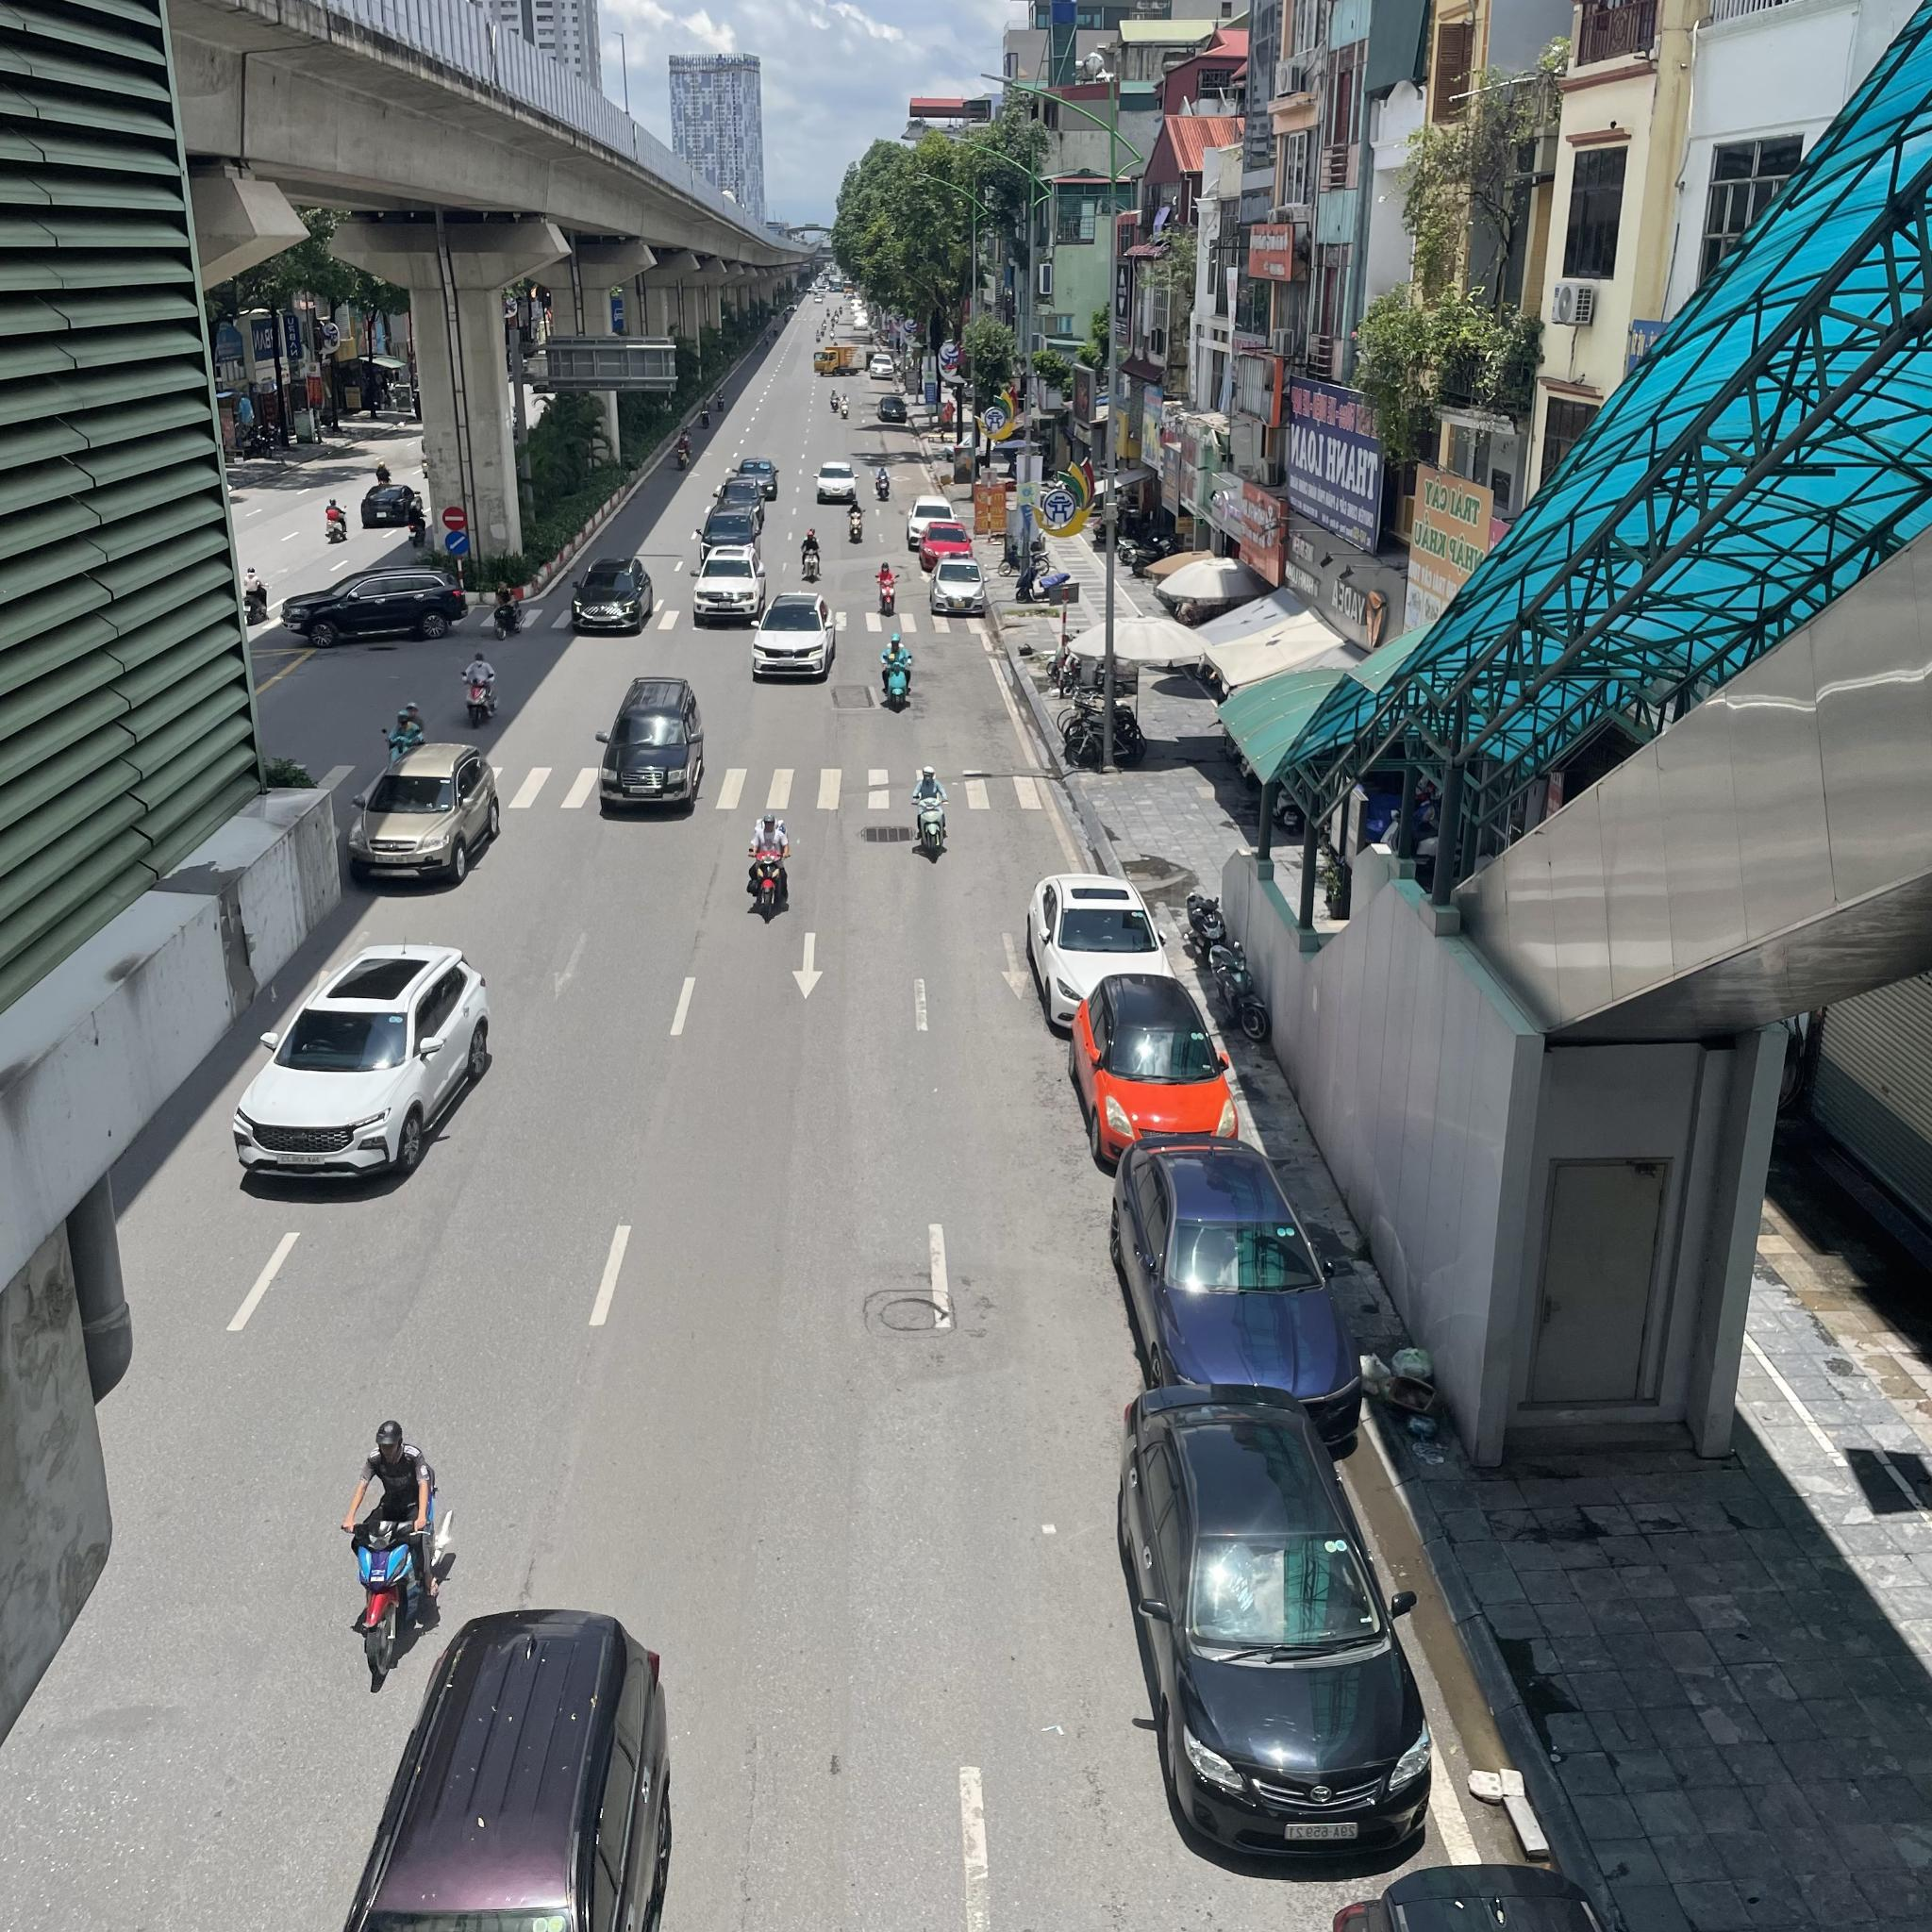car: (1118, 1396, 1426, 1863), (1097, 1134, 1359, 1445), (226, 936, 494, 1182), (1069, 968, 1246, 1159), (350, 738, 501, 888), (1030, 876, 1169, 1028), (280, 563, 467, 646), (600, 678, 711, 816), (750, 591, 833, 683), (559, 559, 655, 635), (692, 543, 761, 632), (927, 556, 987, 617)
motobike: (350, 1422, 430, 1670), (740, 809, 789, 922), (904, 766, 948, 862), (878, 626, 911, 711), (465, 651, 495, 727), (488, 580, 524, 642), (876, 561, 897, 617), (801, 531, 823, 582), (844, 501, 865, 545), (667, 439, 694, 471), (872, 467, 893, 502)
